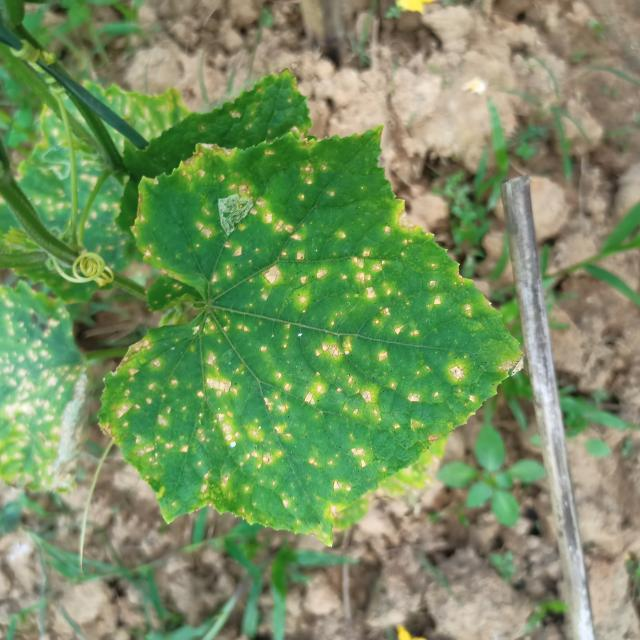disease_cucumber: (117, 146, 502, 528)
